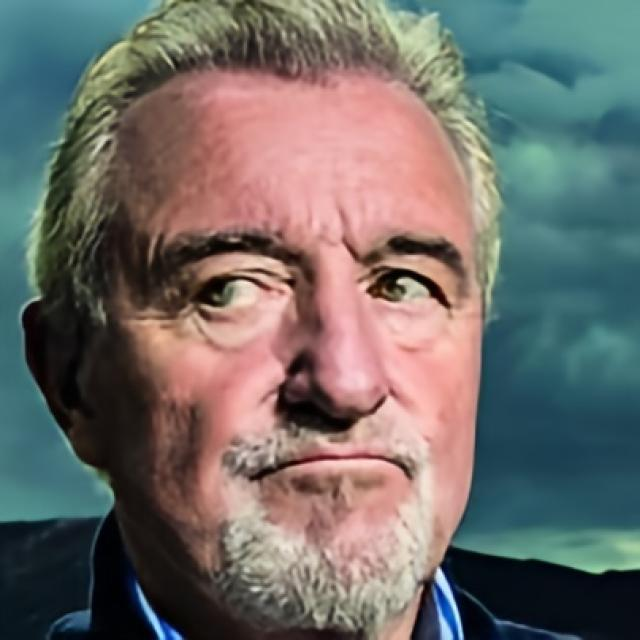content: (103, 69, 475, 640)
